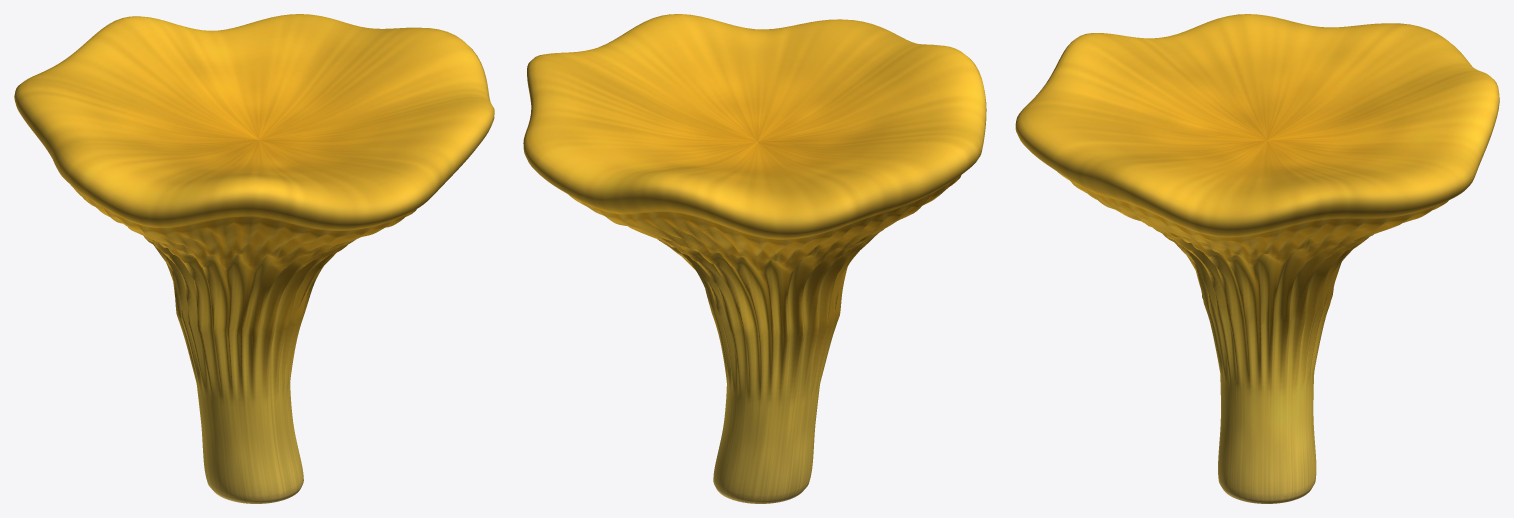
File: cantharellus-cibarius-drawn.glb
3 views of the same model, side by side, from view 1: azimuth 30°, elevation 25°; view 2: azimuth 150°, elevation 25°; view 3: azimuth 270°, elevation 25° (orthographic).
Size of the model in its own units: 1.03 by 0.9307 by 1.03.
1 material, 1 textured.
